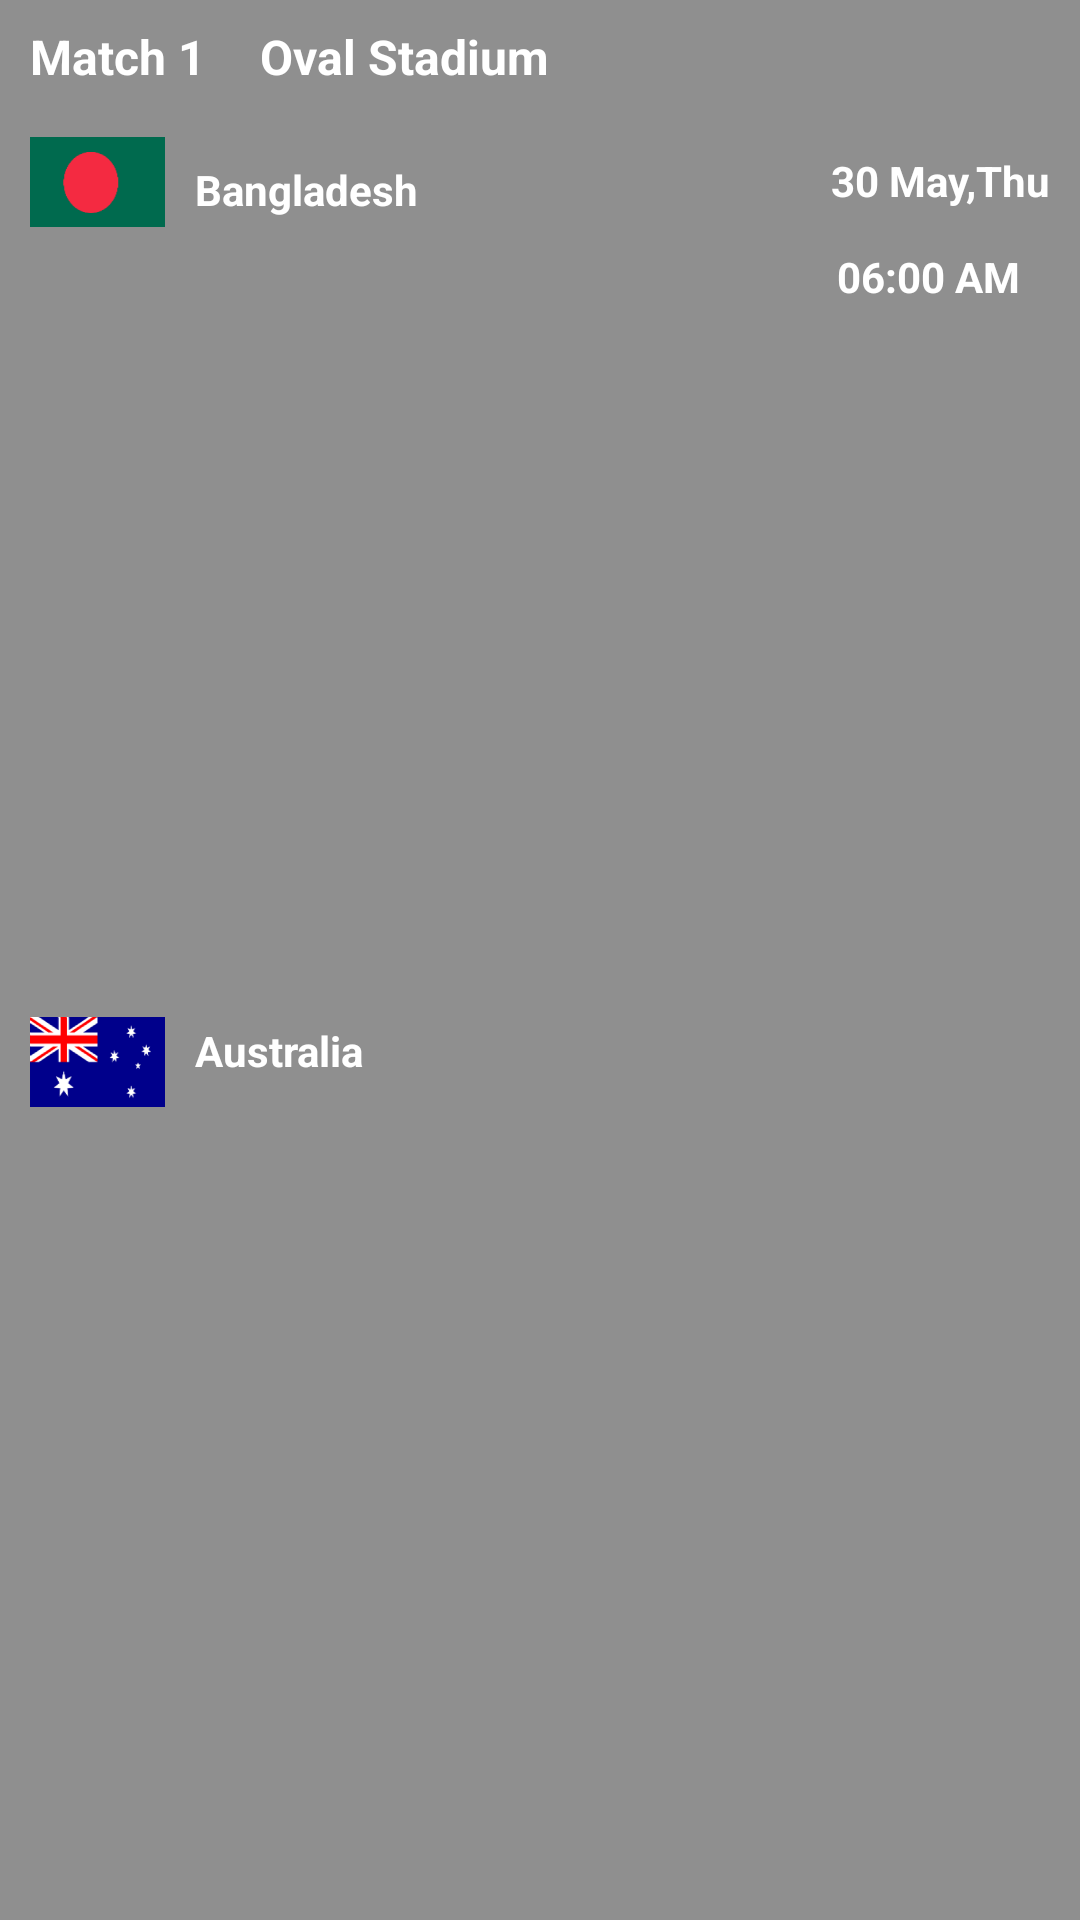

Named icons in this screenshot (1080px x 1920px) and their bounding boxes, (x1,y1,x2,y2):
aus: (30,1017,165,1107)
ban: (30,137,165,227)
